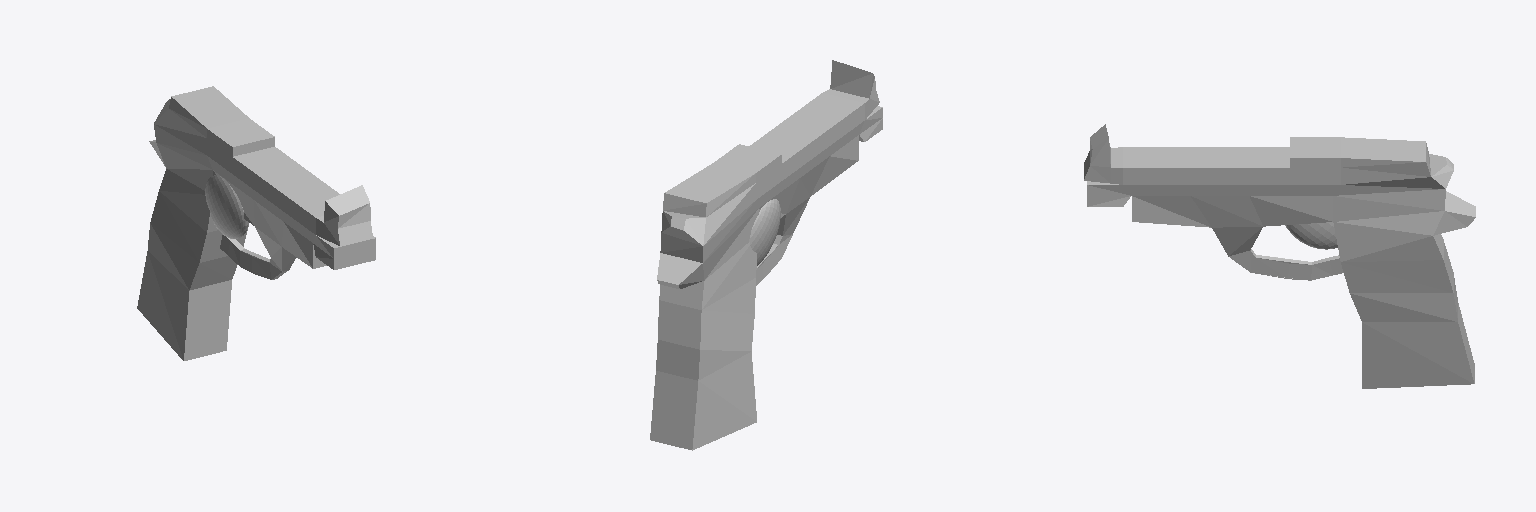
Rendered from GiantGun.obj.
The picture shows the model from 3 angles: view 1: azimuth 30°, elevation 25°; view 2: azimuth 150°, elevation 25°; view 3: azimuth 270°, elevation 25°; orthographic projection.
Parts seen in each view (by area): view 1: Cube, Cube.001, Cube.002, Sphere; view 2: Cube, Cube.001, Sphere, Cube.002; view 3: Cube, Cube.001, Cube.002, Sphere.
Boxes of the visible parts, x1=… form: Cube: x1=149, y1=86, x2=375, y2=269; Cube.001: x1=137, y1=169, x2=248, y2=360; Cube.002: x1=220, y1=227, x2=296, y2=279; Sphere: x1=205, y1=174, x2=248, y2=238; Cube: x1=657, y1=60, x2=882, y2=288; Cube.001: x1=650, y1=242, x2=756, y2=450; Sphere: x1=749, y1=199, x2=780, y2=265; Cube.002: x1=756, y1=198, x2=809, y2=285; Cube: x1=1084, y1=124, x2=1475, y2=235; Cube.001: x1=1333, y1=222, x2=1474, y2=388; Cube.002: x1=1212, y1=227, x2=1343, y2=280; Sphere: x1=1285, y1=222, x2=1337, y2=249.
Size of the model in its own units: 2.9 by 11.55 by 16.01.